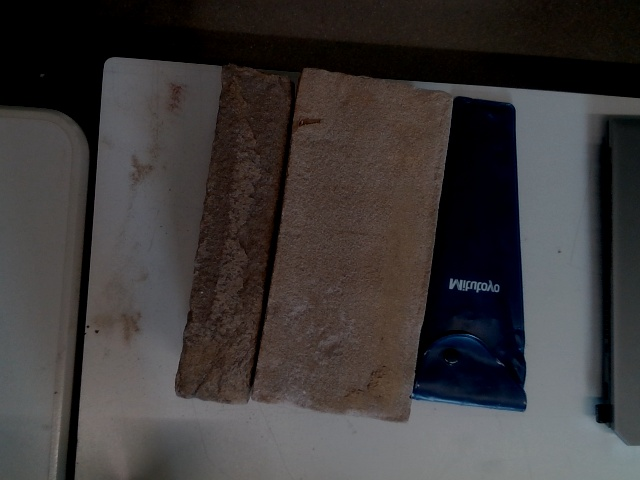brick: (254, 71, 452, 419)
